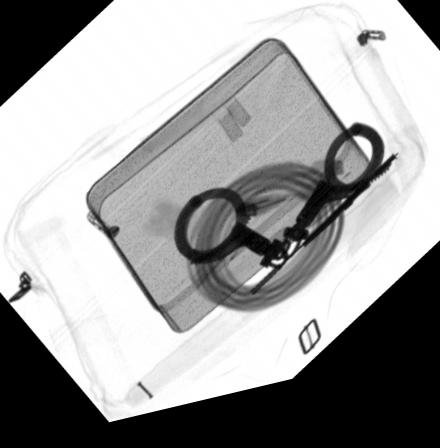Gun: (245, 168, 403, 313)
HandCuffs: (171, 132, 384, 284)
